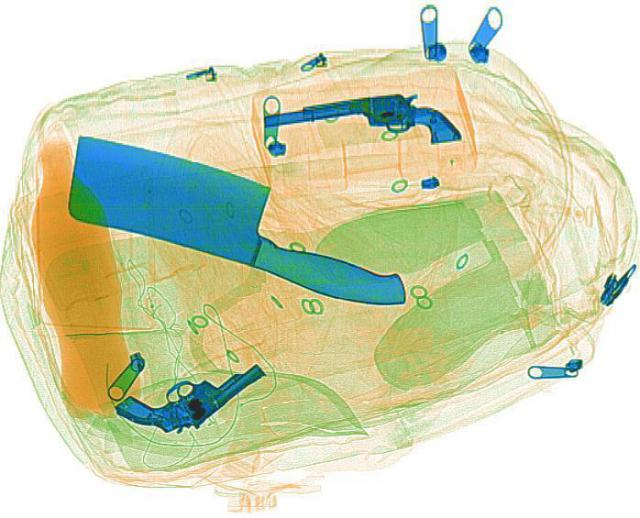Gun: (258, 91, 460, 148), (111, 362, 273, 431)
Knife: (35, 123, 442, 314)
